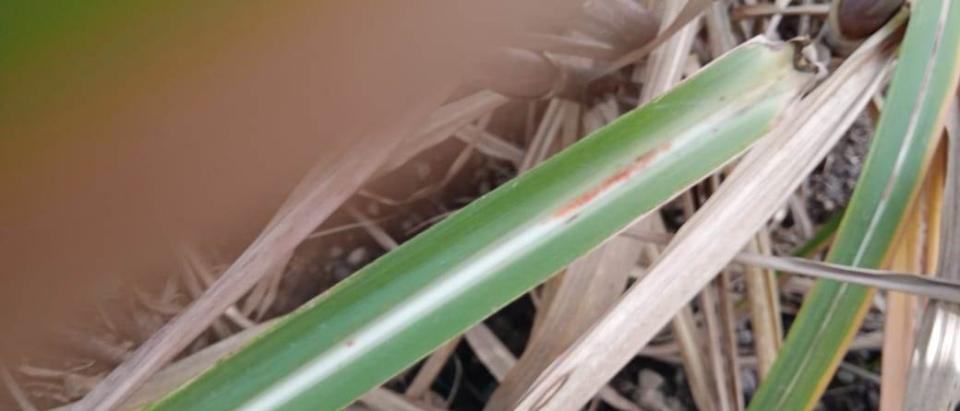RedRot: (542, 140, 672, 228)
